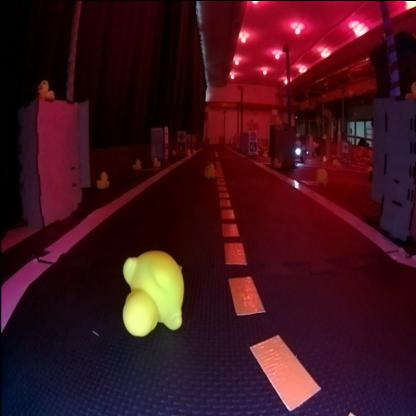Duckie: (123, 250, 184, 334), (38, 78, 54, 97), (96, 171, 109, 187), (315, 166, 327, 183), (204, 162, 217, 176), (132, 158, 140, 168), (273, 156, 281, 166), (153, 156, 160, 165)
QR code: (249, 140, 257, 150)
